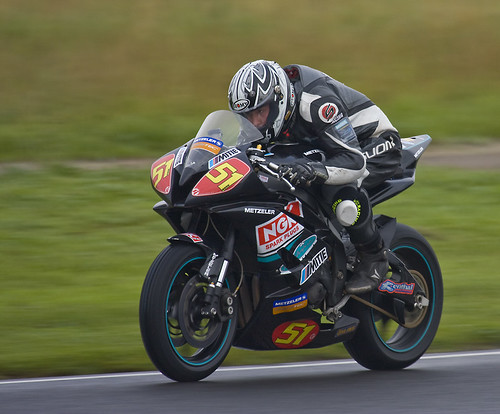helmet: (221, 48, 294, 108)
